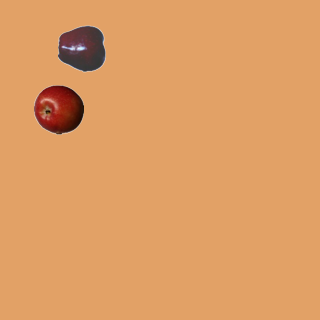Apple Braeburn: (33, 84, 83, 134)
Apple Red Delicious: (57, 23, 107, 73)
